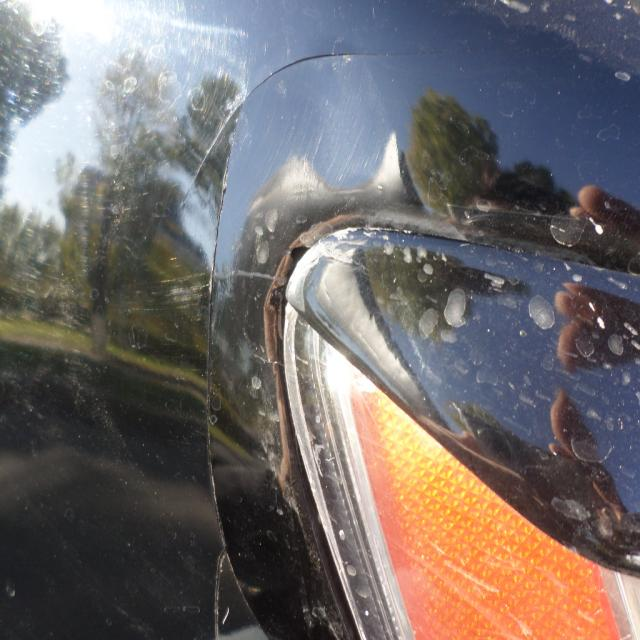Dechirure: (251, 185, 509, 640), (157, 43, 431, 204), (196, 143, 271, 636)
